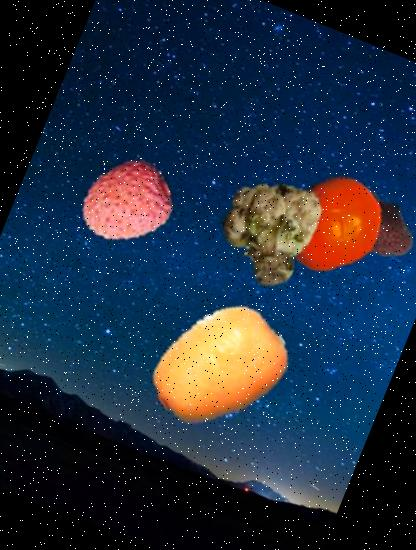Cauliflower: (202, 166, 342, 305)
Clementine: (264, 157, 398, 291)
Kumquats: (130, 278, 308, 456)
Lychee: (64, 142, 185, 264)
Strawberry: (319, 168, 416, 281)
